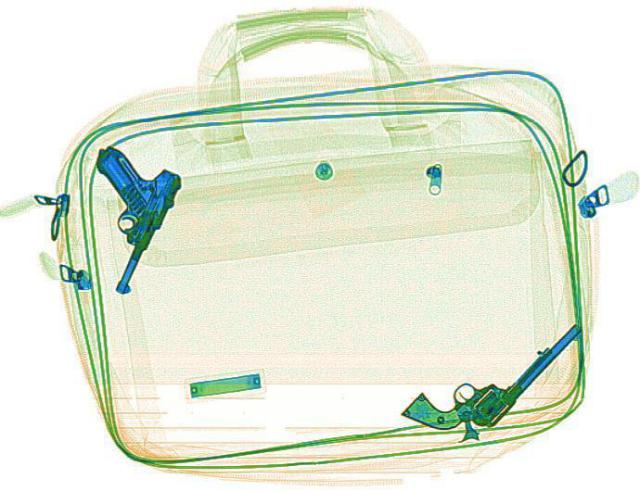Gun: (398, 292, 582, 447), (45, 142, 189, 295)
